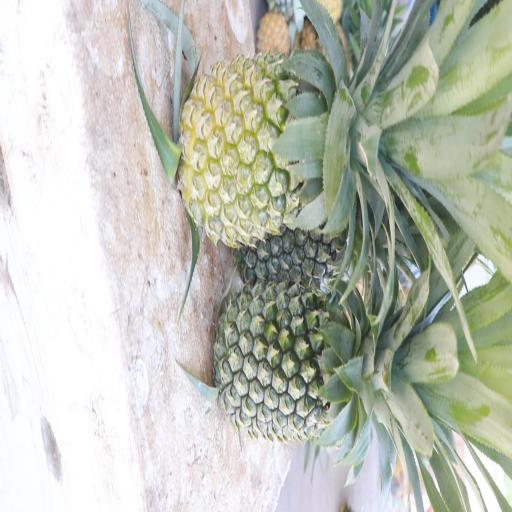Pineapple - v8 v1: (181, 48, 353, 241)
